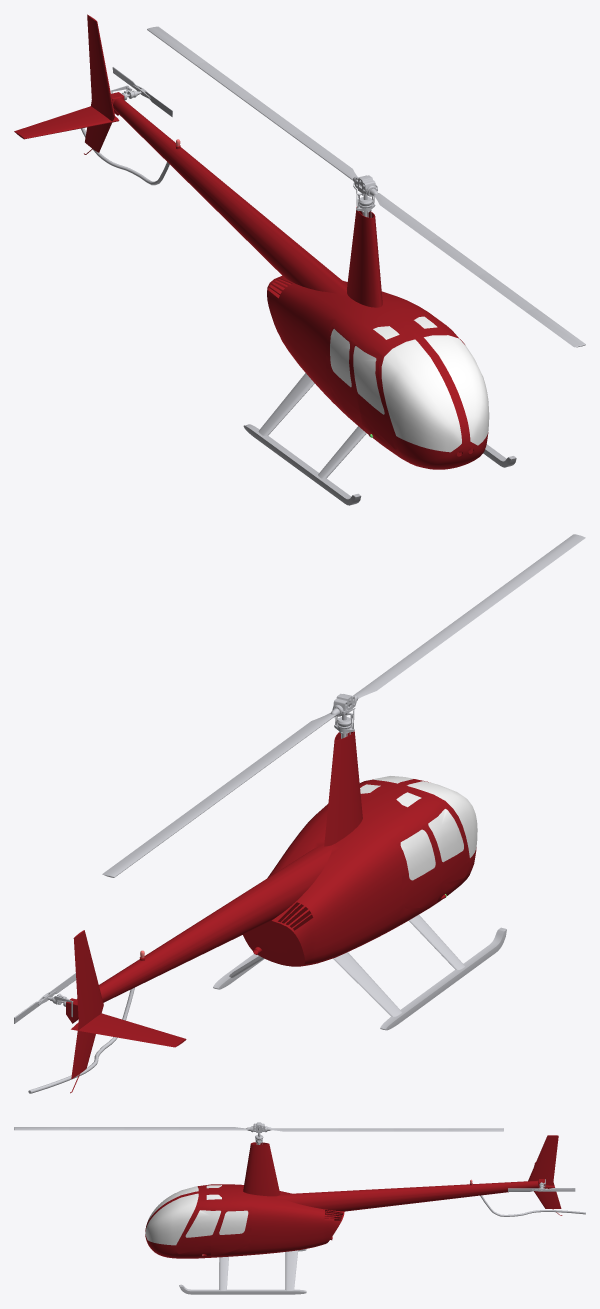
Rendered from raven44.glb.
3 renders of one model, top to bottom at view 1: azimuth 30°, elevation 25°; view 2: azimuth 150°, elevation 25°; view 3: azimuth 270°, elevation 25°, orthographic. The views are drawn at different scales.
Parts seen in each view (by area): view 1: Body, Blade; view 2: Body, Blade; view 3: Body, Blade.
Part boxes in pixels (<box>): Body: <box>14,14,516,505</box>; Blade: <box>147,26,585,347</box>; Body: <box>14,731,506,1093</box>; Blade: <box>102,534,585,877</box>; Body: <box>145,1135,585,1294</box>; Blade: <box>14,1122,503,1144</box>.
Bounding box in the file's own units: 2.39 × 3.36 × 11.76.
